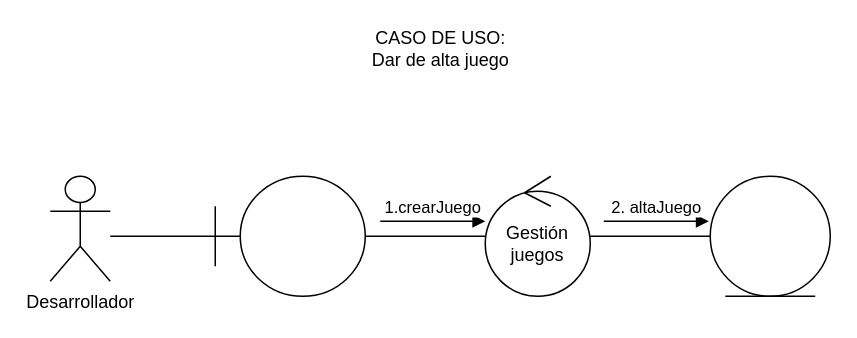
Image size: 857x338. Some labels were removed from this diagram. Each missing label, with the centre of its shape:
"Interfaz Desarrollador" goes at (289,235).
"Juegos" goes at (769,235).
